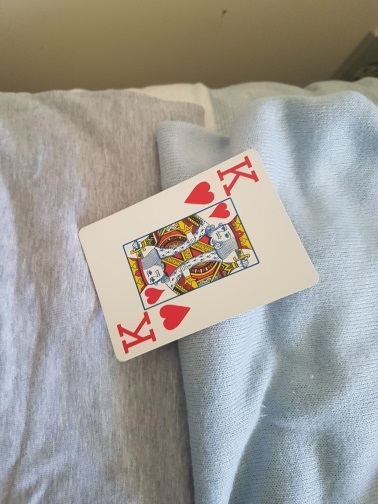king: (79, 150, 320, 363)
